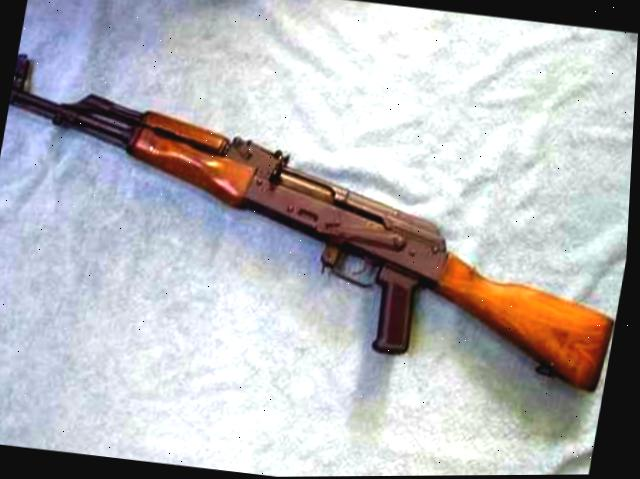rifle: (0, 38, 638, 466)
